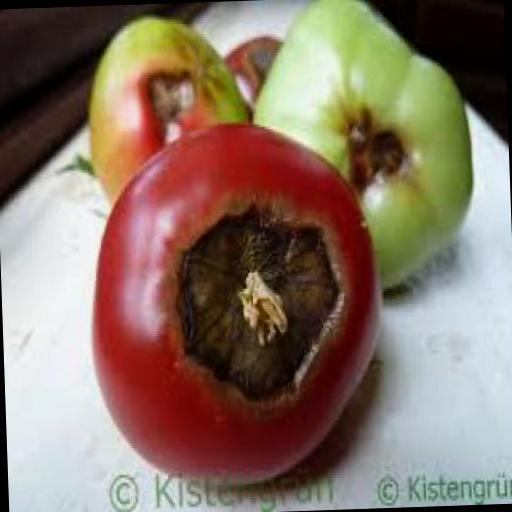biodegradable: (84, 112, 383, 484), (241, 0, 475, 293), (82, 11, 250, 212), (221, 33, 282, 120)
